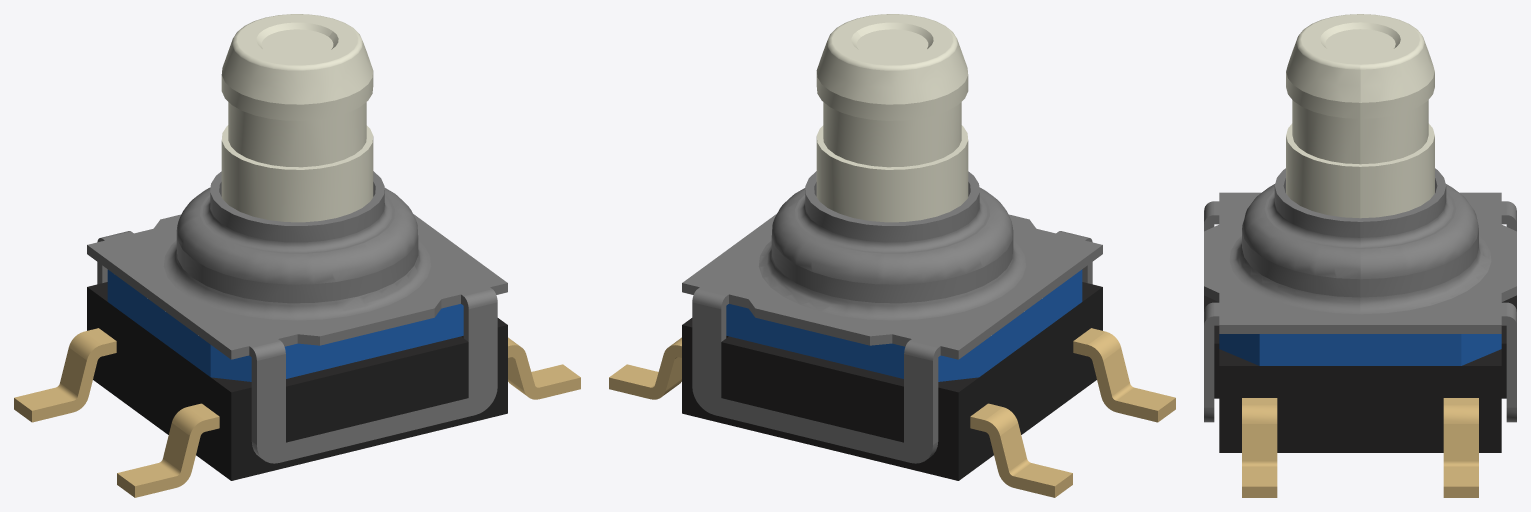
Rendered from kc-sw_push_1p1t_no_ck_ksc9xxg.glb.
3 views of the same model, side by side, from view 1: azimuth 30°, elevation 25°; view 2: azimuth 150°, elevation 25°; view 3: azimuth 270°, elevation 25° (orthographic). The views are drawn at different scales.
Parts seen in each view (by area): view 1: 0.25_0.25_0.25_0, 0.75_0.75_0.6666666666666666_0, 0_0_0_0, 0.75_0.5_0.25_0.9, 0_0.16666666666666666_0.5_0; view 2: 0.25_0.25_0.25_0, 0.75_0.75_0.6666666666666666_0, 0_0_0_0, 0.75_0.5_0.25_0.9, 0_0.16666666666666666_0.5_0; view 3: 0.25_0.25_0.25_0, 0.75_0.75_0.6666666666666666_0, 0_0_0_0, 0_0.16666666666666666_0.5_0, 0.75_0.5_0.25_0.9.
Part boxes in pixels (x1,y1,x2,y2): 0.25_0.25_0.25_0: [87, 171, 507, 463]; 0.75_0.75_0.6666666666666666_0: [221, 14, 373, 222]; 0_0_0_0: [87, 282, 507, 480]; 0.75_0.5_0.25_0.9: [14, 328, 580, 497]; 0_0.16666666666666666_0.5_0: [107, 269, 463, 381]; 0.25_0.25_0.25_0: [682, 171, 1102, 463]; 0.75_0.75_0.6666666666666666_0: [816, 14, 968, 222]; 0_0_0_0: [682, 282, 1102, 480]; 0.75_0.5_0.25_0.9: [609, 328, 1175, 497]; 0_0.16666666666666666_0.5_0: [726, 269, 1082, 381]; 0.25_0.25_0.25_0: [1204, 168, 1516, 422]; 0.75_0.75_0.6666666666666666_0: [1286, 14, 1434, 218]; 0_0_0_0: [1204, 295, 1516, 452]; 0_0.16666666666666666_0.5_0: [1219, 334, 1501, 365]; 0.75_0.5_0.25_0.9: [1242, 398, 1478, 497].
Bounding box in the file's own units: 1 × 0.77 × 0.62.
